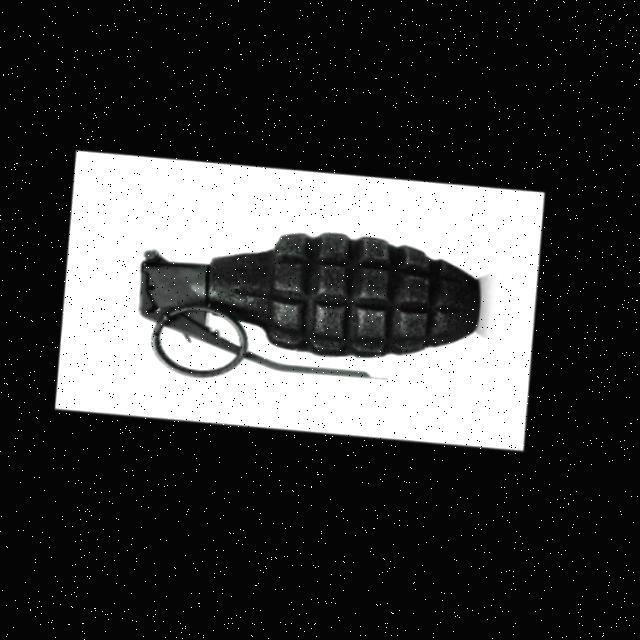grenade: (71, 133, 534, 480)
